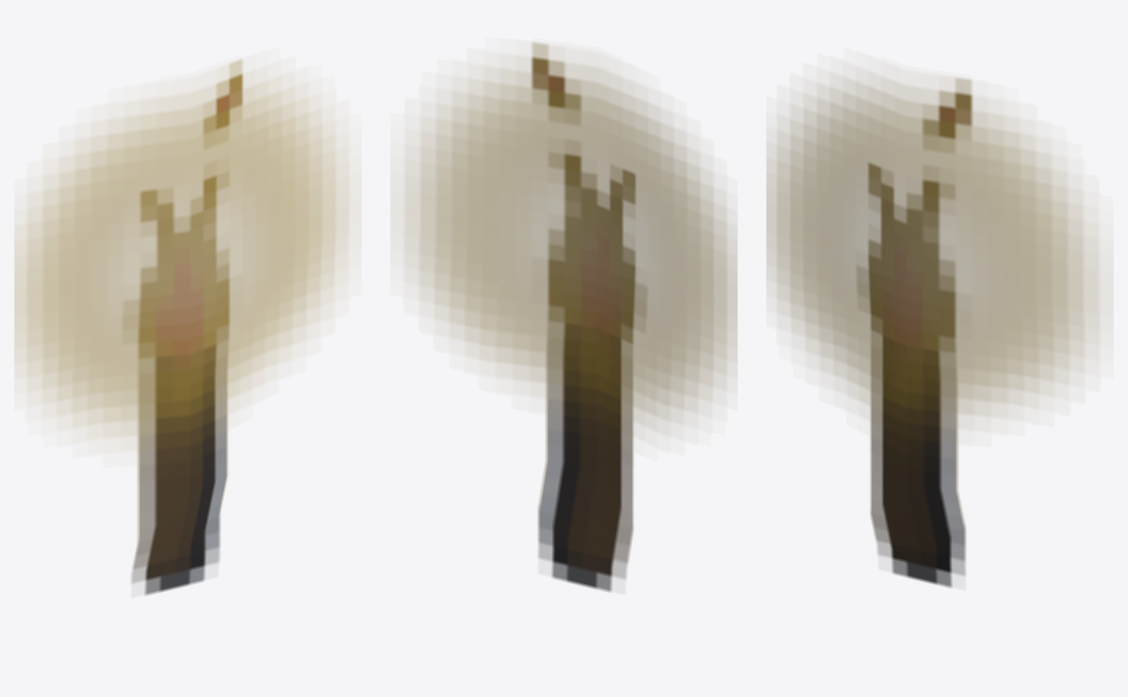
The model's file is Torche.glb.
3 views of the same model, side by side, from view 1: azimuth 30°, elevation 25°; view 2: azimuth 150°, elevation 25°; view 3: azimuth 330°, elevation 25° (orthographic).
Visible parts, largest first — view 1: Torche; view 2: Torche; view 3: Torche.
Part boxes in pixels (left/top/right/bottom): Torche: left=14, top=59, right=349, bottom=594; Torche: left=404, top=42, right=737, bottom=591; Torche: left=766, top=77, right=1099, bottom=587.
Bounding box in the file's own units: 0.74 × 1.19 × 0.0661.
Materials: 1 (1 with a texture image).
